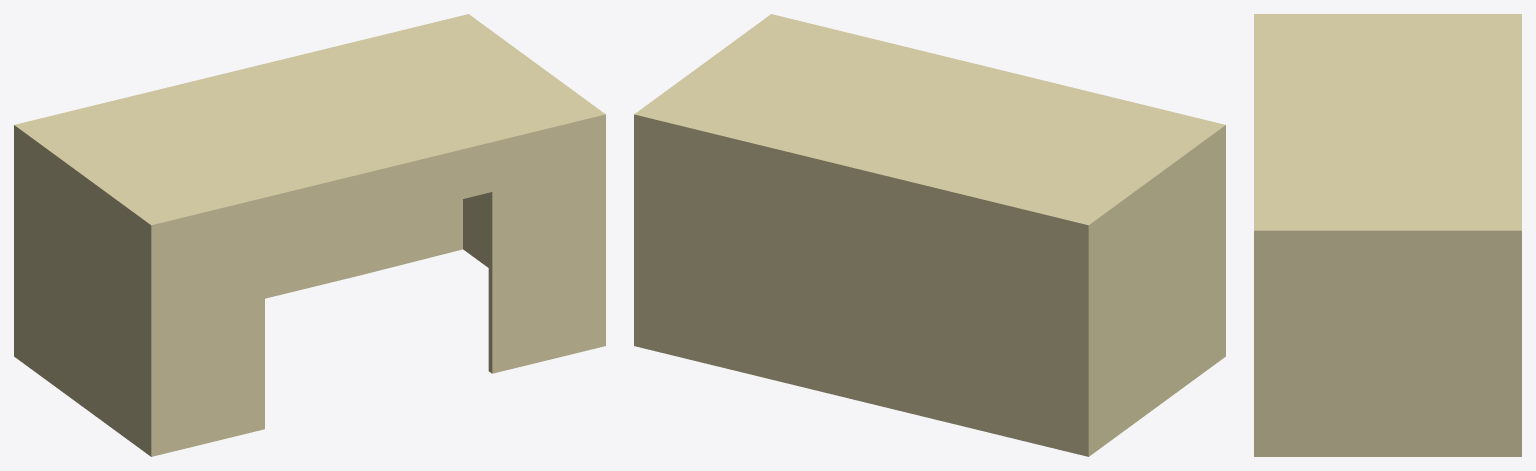
File: MarketPlace.fbx
3 renders of one model, left to right at view 1: azimuth 30°, elevation 25°; view 2: azimuth 150°, elevation 25°; view 3: azimuth 270°, elevation 25°, orthographic. The views are drawn at different scales.
Visible parts, largest first — view 1: Cube; view 2: Cube; view 3: Cube.
Part boxes in pixels (x1=…): Cube: x1=14, y1=14, x2=605, y2=456; Cube: x1=634, y1=14, x2=1225, y2=456; Cube: x1=1254, y1=14, x2=1521, y2=456.
Size of the model in its own units: 599 by 292 by 313.
